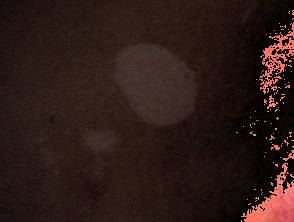vitiligo: (91, 20, 220, 146), (71, 123, 123, 163)
